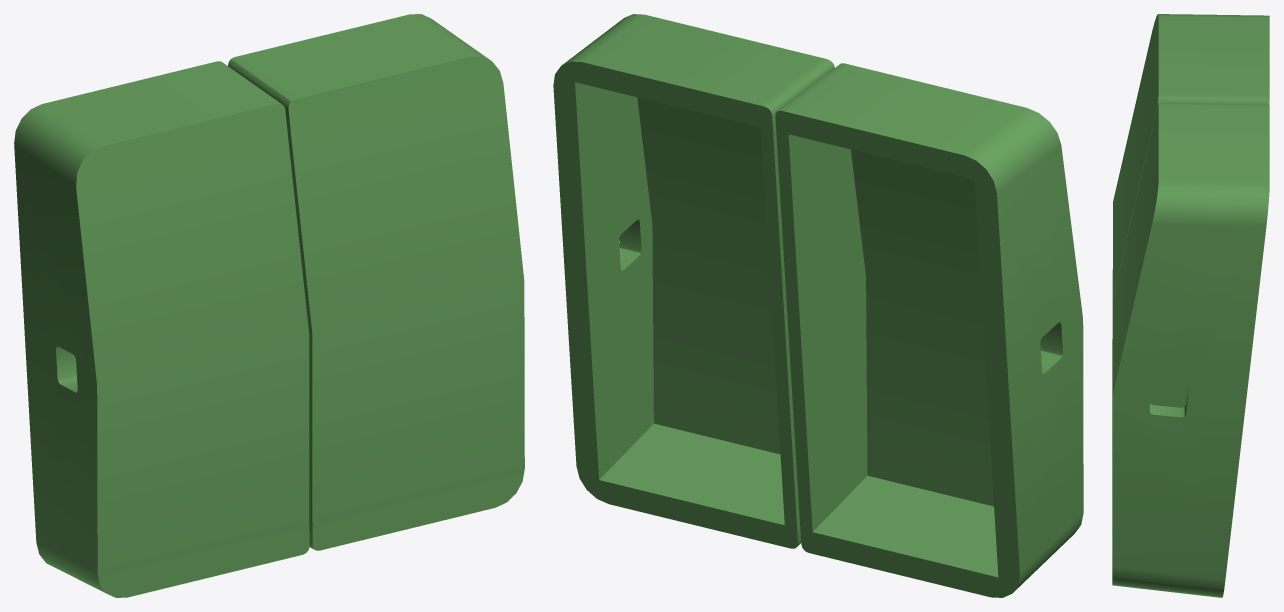
The model's file is LightSwitches02.fbx.
The picture shows the model from 3 angles, left to right: view 1: azimuth 30°, elevation 25°; view 2: azimuth 150°, elevation 25°; view 3: azimuth 270°, elevation 25°; orthographic projection. The views are drawn at different scales.
Visible parts, largest first — view 1: LightSwitches02_Left, LightSwitches02_Right; view 2: LightSwitches02_Left, LightSwitches02_Right; view 3: LightSwitches02_Right, LightSwitches02_Left.
Part boxes in pixels (<box>): LightSwitches02_Left: <box>14,61,309,597</box>; LightSwitches02_Right: <box>228,14,524,550</box>; LightSwitches02_Left: <box>775,63,1083,597</box>; LightSwitches02_Right: <box>553,14,834,548</box>; LightSwitches02_Right: <box>1112,103,1269,597</box>; LightSwitches02_Left: <box>1112,14,1269,486</box>.
Size of the model in its own units: 5.82 by 5.81 by 2.01.
